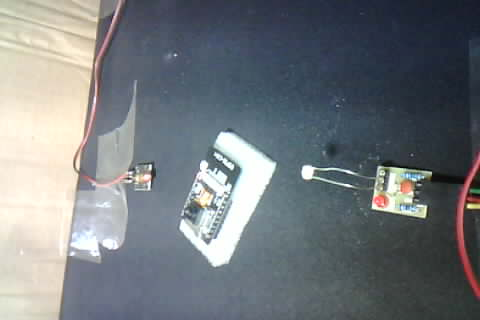esp32: (178, 131, 265, 261)
